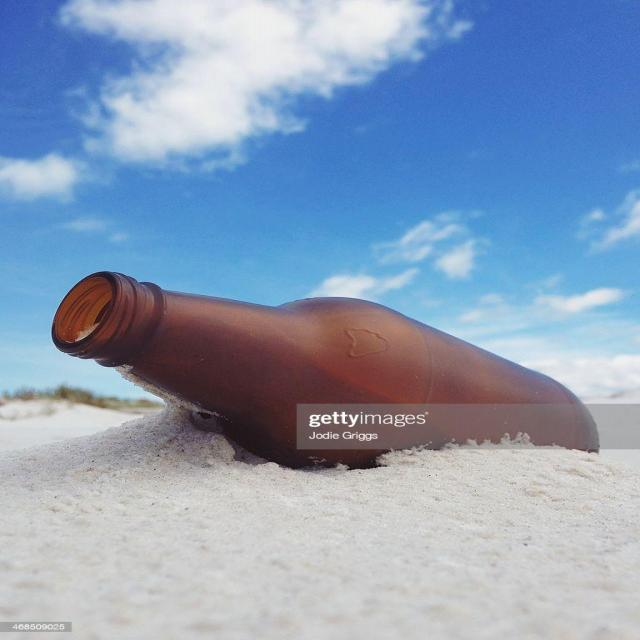non-organic waste: (37, 265, 603, 475)
